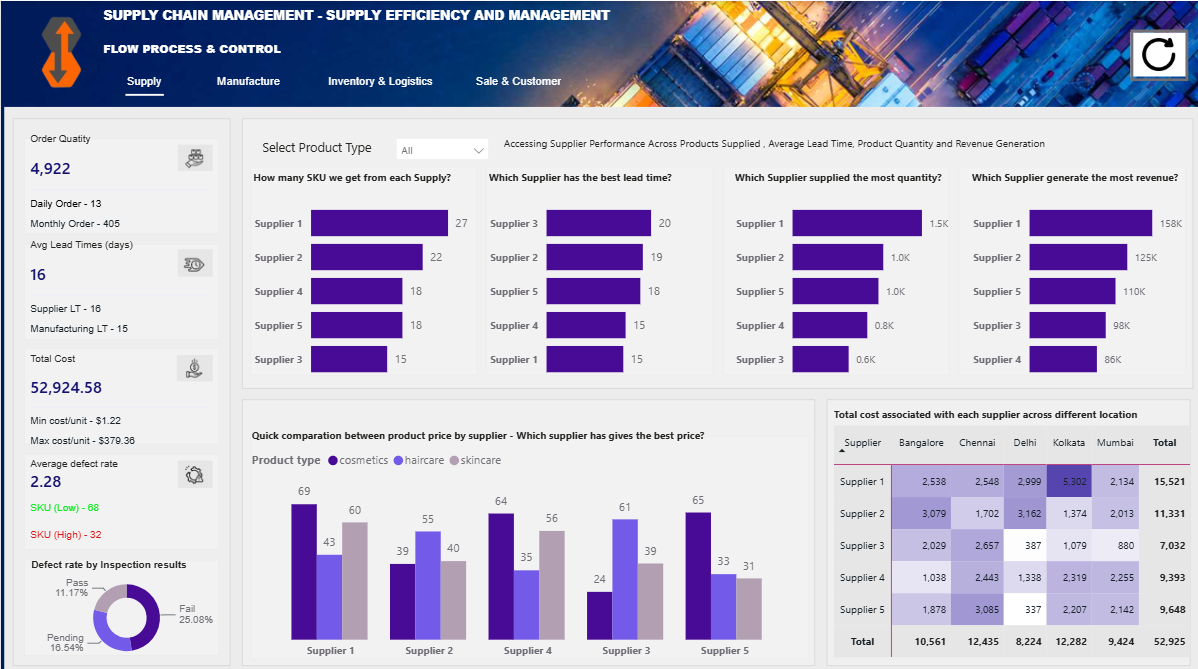

The page's visual inventory and layout, read from the dashboard file:
{"tool":"powerbi","page":{"name":"Supply","canvas":[1280,720],"ordinal":0},"visuals":[{"type":"image","box":[1198.4,33.8,59.7,46.8],"z":0,"group":"g2"},{"type":"actionButton","box":[103.4,74.8,97,19.1],"z":0,"group":"g1"},{"type":"barChart","title":"How many SKU we get from each Supply?","fields":{"Category":["Sheet1.Supplier name"],"Y":["Supply_Measure.SKU_count"]},"box":[261.7,179.8,237.2,234],"z":0},{"type":"actionButton","box":[1198.4,30.6,61.3,54.8],"z":1000,"group":"g2"},{"type":"shape","box":[131.7,94.2,40.6,11.3],"z":1000,"group":"g1"},{"type":"barChart","title":"Which Supplier has the best lead time? ","fields":{"Category":["Sheet1.Supplier name"],"Y":["Supply_Measure.Supplier Lead Time"]},"box":[512.8,179.8,236.2,234],"z":1000},{"type":"barChart","title":"Which Supplier supplied the most quantity? ","fields":{"Category":["Sheet1.Supplier name"],"Y":["Supply_Measure.Order Quatity"]},"box":[772.3,179.8,236.2,234],"z":2000},{"type":"barChart","title":"Which Supplier generate the most revenue?","fields":{"Category":["Sheet1.Supplier name"],"Y":["Supply_Measure.Revenue_generate"]},"box":[1024.5,179.8,236.2,234],"z":3000},{"type":"clusteredColumnChart","title":"Quick comparation between product price by supplier - Which supplier has gives the best price?","fields":{"Category":["Sheet1.Supplier name"],"Y":["Avg(Sheet1.Price)"],"Series":["Sheet1.Product type"]},"box":[261.3,453.2,595.2,251.6],"z":4000},{"type":"pivotTable","title":"Total cost associated with each supplier across different location","fields":{"Rows":["Sheet1.Supplier name"],"Columns":["Sheet1.Location"],"Values":["Supply_Measure.Total_Cost"]},"box":[879.4,425.4,390.5,279.4],"z":5000},{"type":"cardVisual","title":"Order Quatity","fields":{"Data":["Supply_Measure.Order Quantity Display"]},"box":[26.3,140,203.2,108.4],"z":6000},{"type":"cardVisual","title":"Avg Lead Times (days)","fields":{"Data":["Supply_Measure.Avg_Leadtime"]},"box":[26.3,253.7,203.2,106.3],"z":7000},{"type":"cardVisual","title":"Total Cost","fields":{"Data":["Supply_Measure.Total_Cost"]},"box":[26.3,373.7,203.2,102.1],"z":8000},{"type":"cardVisual","title":"Average defect rate","fields":{"Data":["Supply_Measure.Avg_defect_rate","Supply_Measure.SKU Low Text","Supply_Measure.SKU High Text"]},"box":[27.4,485.3,192.6,92.6],"z":9000},{"type":"donutChart","title":"Defect rate  by Inspection results","fields":{"Category":["Sheet1.Inspection results"],"Y":["Supply_Measure.Defect rate %"]},"box":[26.3,591.6,211.6,112.6],"z":10000},{"type":"textbox","box":[272.5,140.6,136.2,33.3],"z":11000},{"type":"slicer","fields":{"Values":["Sheet1.Product type"]},"box":[408.7,134.8,118.8,39.1],"z":12000},{"type":"textbox","box":[527.5,134.8,598.6,39.1],"z":13000},{"type":"image","box":[38.2,14.3,52.5,79.5],"z":14000},{"type":"textbox","box":[103.4,0,574.2,39.8],"z":15000},{"type":"textbox","box":[103.4,35,574.2,39.8],"z":16000},{"type":"actionButton","box":[205.2,74.8,114.5,20.7],"z":17000},{"type":"actionButton","box":[319.7,74.8,165.4,20.7],"z":18000},{"type":"actionButton","box":[466,74.8,165.4,20.7],"z":19000},{"type":"group","id":"g1","title":"Group 1","box":[103.4,74.8,97,30.7],"z":20000},{"type":"group","id":"g2","title":"Group 2","box":[1198.4,30.6,61.3,54.8],"z":21000}]}

Visuals, with their boxes in screenshot pixels (x1, y1, x2, y2), scaled from the page's 1280x720 canvas onto the 1198x669 screenshot:
image: (left=1122, top=31, right=1178, bottom=75)
actionButton: (left=97, top=70, right=188, bottom=87)
"How many SKU we get from each Supply?" barChart: (left=245, top=167, right=467, bottom=384)
actionButton: (left=1122, top=28, right=1179, bottom=79)
shape: (left=123, top=88, right=161, bottom=98)
"Which Supplier has the best lead time? " barChart: (left=480, top=167, right=701, bottom=384)
"Which Supplier supplied the most quantity? " barChart: (left=723, top=167, right=944, bottom=384)
"Which Supplier generate the most revenue?" barChart: (left=959, top=167, right=1180, bottom=384)
"Quick comparation between product price by supplier - Which supplier has gives the best price?" clusteredColumnChart: (left=245, top=421, right=802, bottom=655)
"Total cost associated with each supplier across different location" pivotTable: (left=823, top=395, right=1189, bottom=655)
"Order Quatity" cardVisual: (left=25, top=130, right=215, bottom=231)
"Avg Lead Times (days)" cardVisual: (left=25, top=236, right=215, bottom=334)
"Total Cost" cardVisual: (left=25, top=347, right=215, bottom=442)
"Average defect rate" cardVisual: (left=26, top=451, right=206, bottom=537)
"Defect rate  by Inspection results" donutChart: (left=25, top=550, right=223, bottom=654)
textbox: (left=255, top=131, right=383, bottom=162)
slicer - Sheet1.Product type: (left=383, top=125, right=494, bottom=162)
textbox: (left=494, top=125, right=1054, bottom=162)
image: (left=36, top=13, right=85, bottom=87)
textbox: (left=97, top=0, right=634, bottom=37)
textbox: (left=97, top=33, right=634, bottom=70)
actionButton: (left=192, top=70, right=299, bottom=89)
actionButton: (left=299, top=70, right=454, bottom=89)
actionButton: (left=436, top=70, right=591, bottom=89)
"Group 1" group: (left=97, top=70, right=188, bottom=98)
"Group 2" group: (left=1122, top=28, right=1179, bottom=79)
